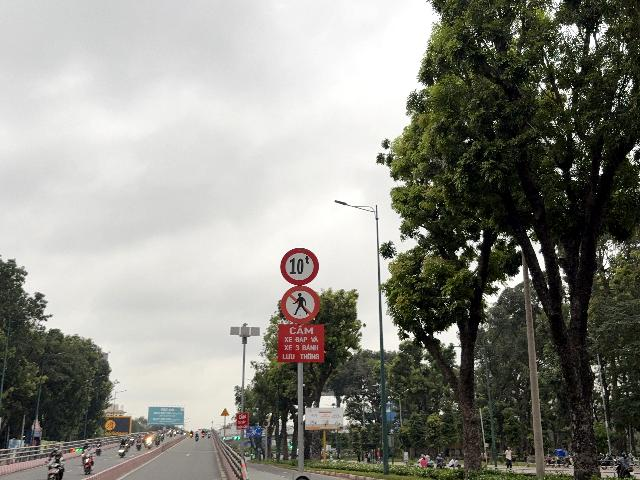cam-nguoi-di-bo: (281, 285, 320, 324)
han-che-trong-luong-xe: (280, 248, 319, 286)
